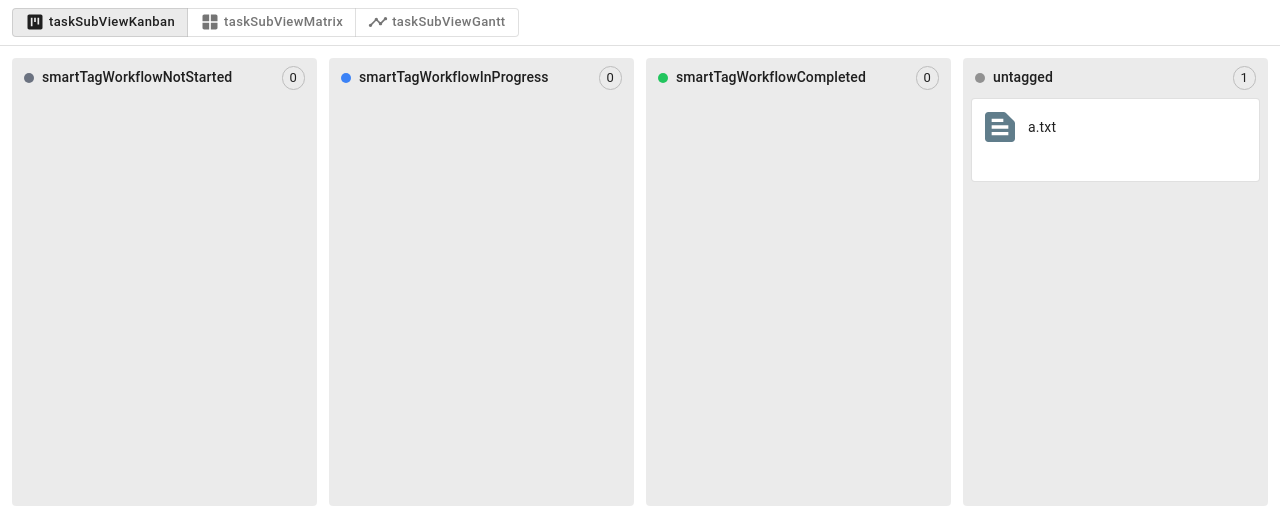
Test case: TaskView #6: Gantt sub-view switch › clicking Gantt renders GanttView and writes localStorage
Click the button with test id "task-toggle-gantt" at (437, 22), box [355,8,519,37]
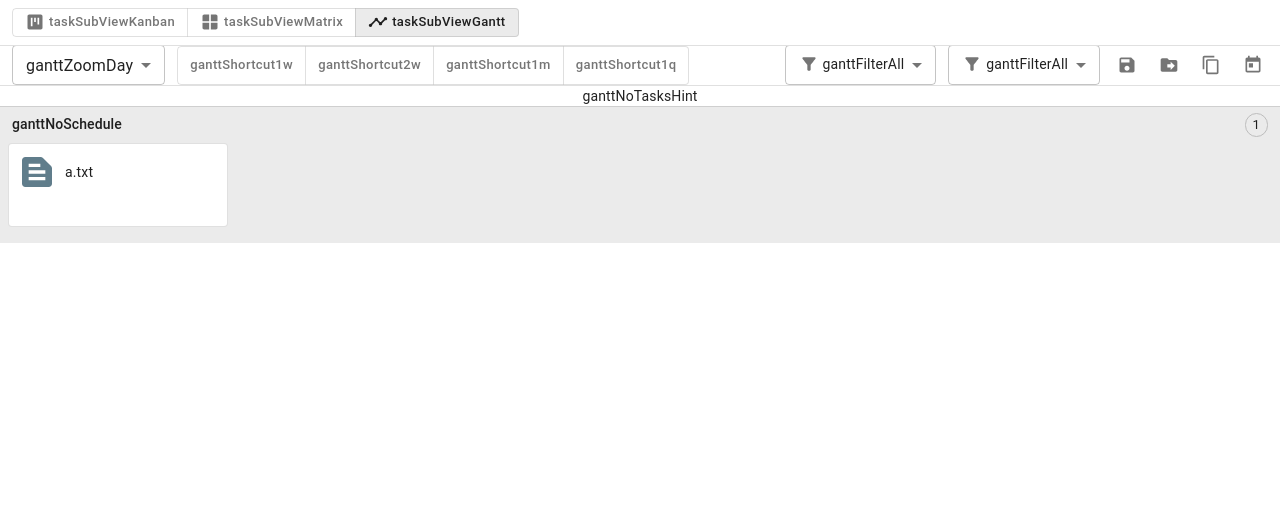
Check: the element with test id "gantt-view" is shown, box [0,46,1279,243]
Check: the element with test id "gantt-scroll" is shown, box [0,86,1279,106]
